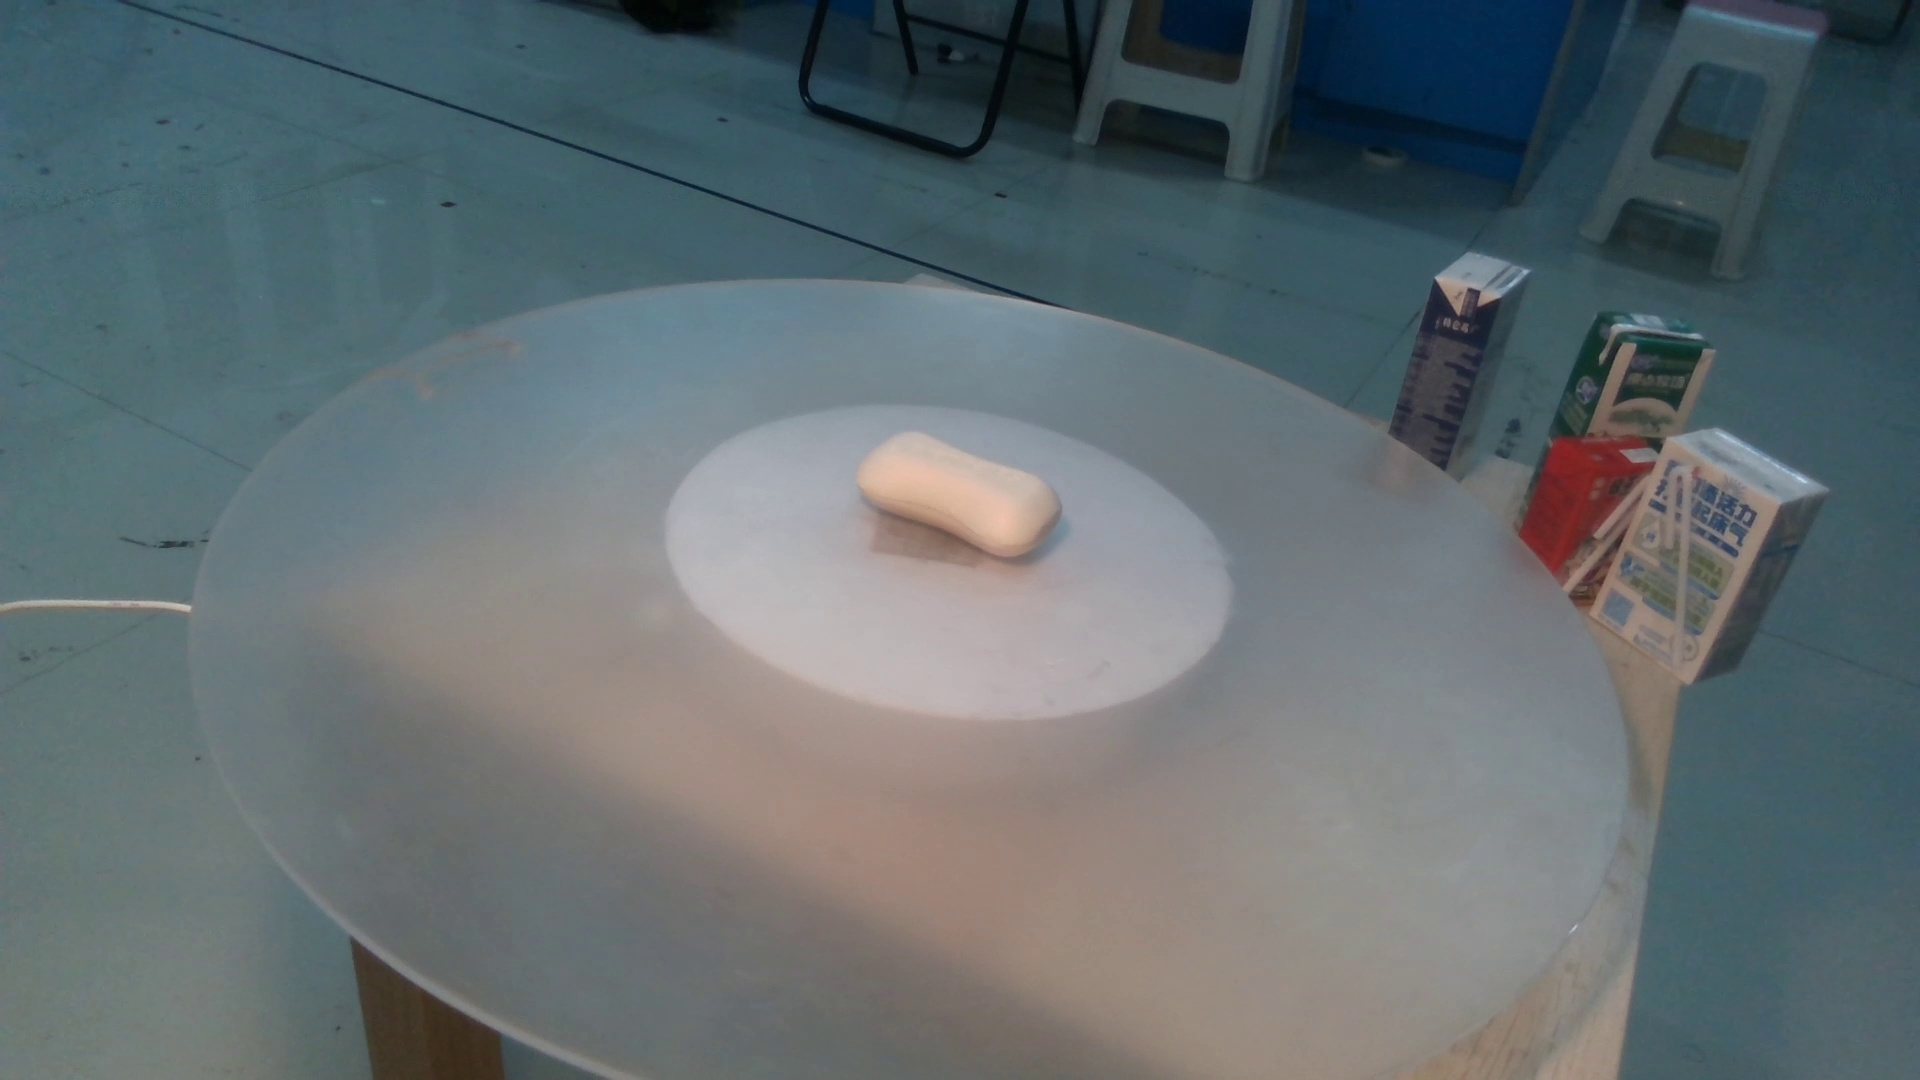CA003_1: (823, 404, 1124, 626)
